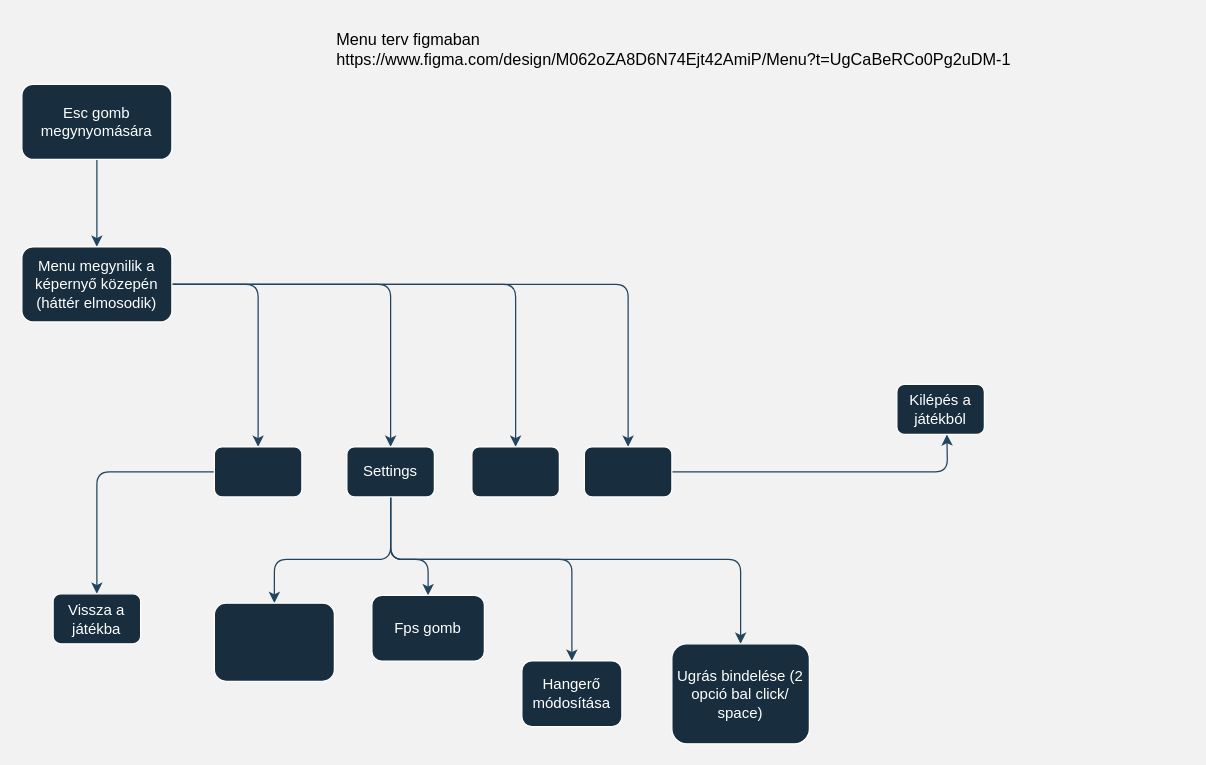
Image size: 1206x765. Some labels were removed from this diagram. Here are the shapes that lost their labels. From the top down, the centre of each, then its label:
At (257,471): "Resume Game".
At (515,471): "Edit character".
At (627,471): "Leave Game".
At (273,641): "Név megváltoztatása".
